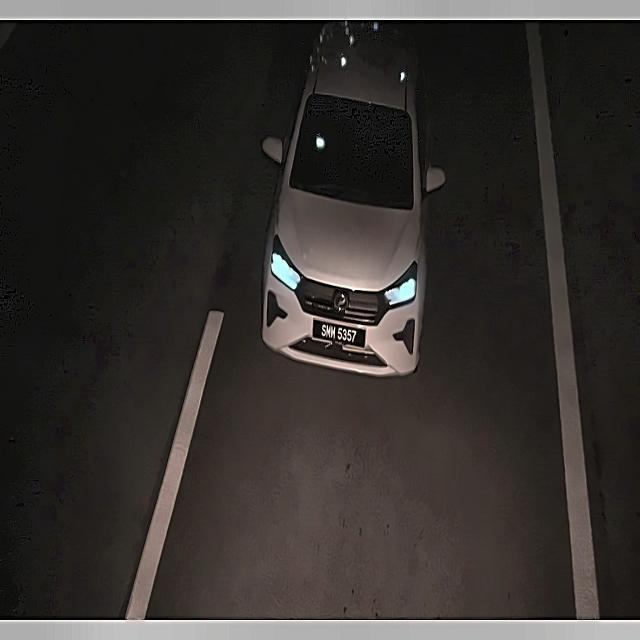car: (310, 312, 370, 357)
